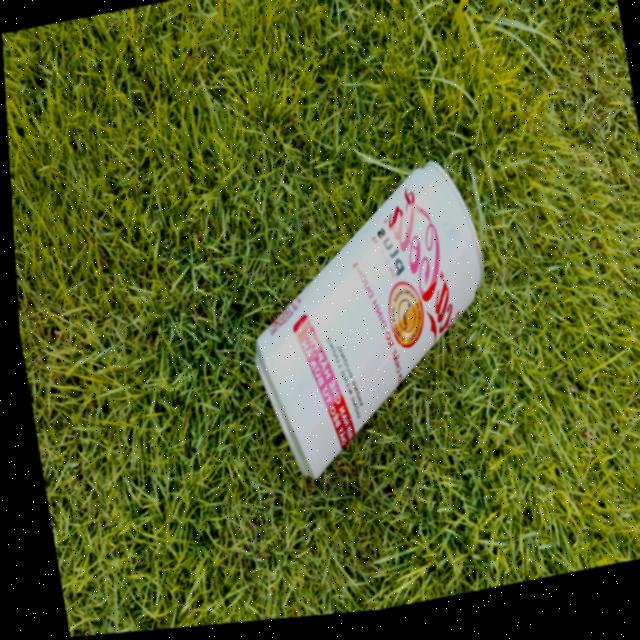Coca Cola Plus: (206, 118, 509, 505)
